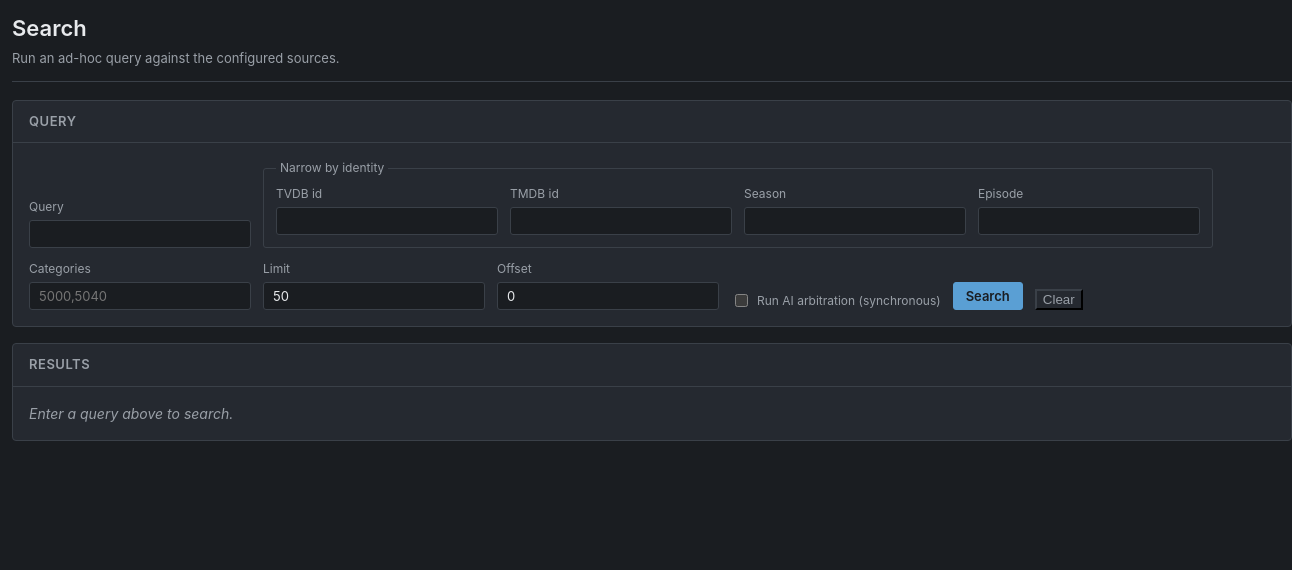
Test: Search › size rendering (arb-i3v7: binary units via the shared formatBytes) › crosses the KiB boundary at 1024 bytes, labelled binary not decimal
Type "some series" into the field labelled "Query" at (140, 234), box [29, 220, 251, 248]
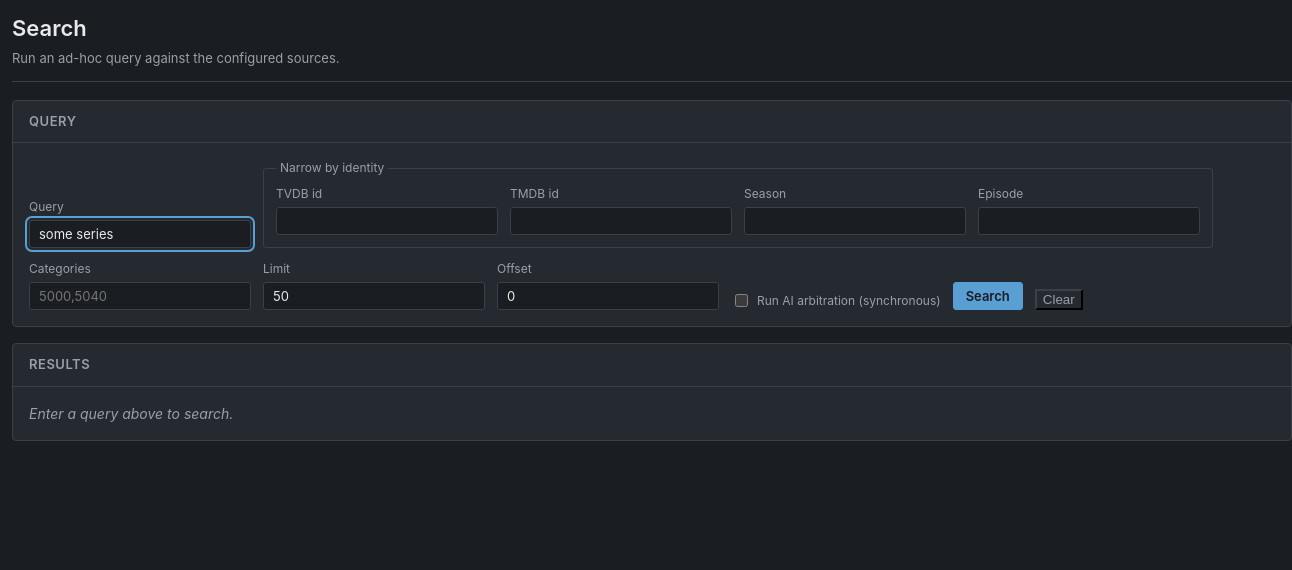
Click the button "Search" at (988, 296), box [953, 282, 1023, 310]
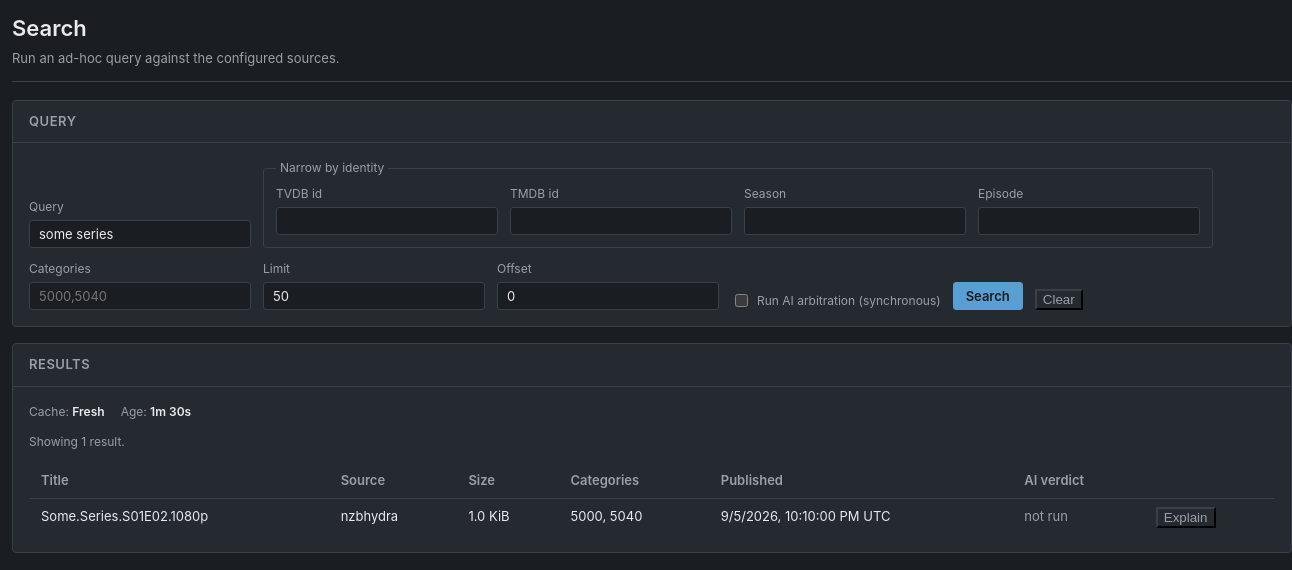
Expected: the text "Some.Series.S01E02.1080p" is shown, [29, 498, 329, 536]
Expected: the text "1.0 KiB" is shown, [456, 498, 558, 536]
